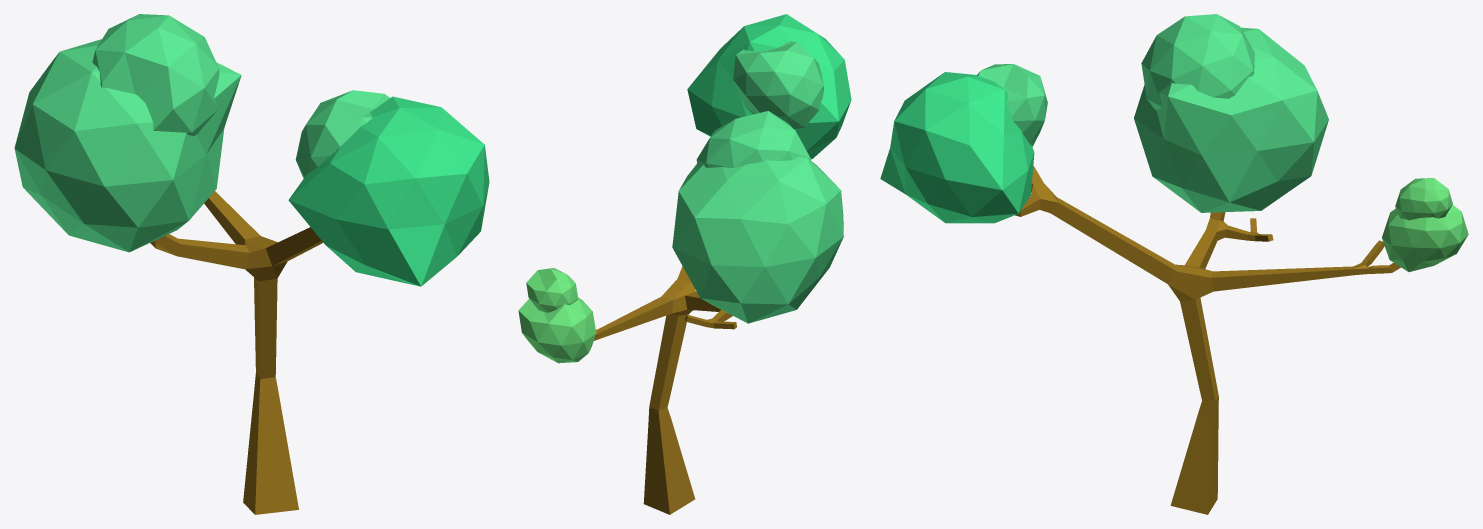
File: TREE.fbx
3 views of the same model, side by side, from view 1: azimuth 30°, elevation 25°; view 2: azimuth 150°, elevation 25°; view 3: azimuth 270°, elevation 25° (orthographic). The views are drawn at different scales.
Visible parts, largest first — view 1: Icosphere.002, Icosphere.001, Cube, Icosphere.003, Icosphere.005; view 2: Icosphere.002, Icosphere.001, Cube, Icosphere.005, Icosphere.003, Icosphere, Icosphere.004; view 3: Icosphere.002, Icosphere.001, Cube, Icosphere.003, Icosphere, Icosphere.005, Icosphere.004.
Boxes of the visible parts, left/top/right/bottom form: Icosphere.002: left=14, top=39, right=241, bottom=252; Icosphere.001: left=288, top=96, right=489, bottom=286; Cube: left=150, top=191, right=323, bottom=514; Icosphere.003: left=92, top=14, right=219, bottom=135; Icosphere.005: left=295, top=90, right=389, bottom=178; Icosphere.002: left=672, top=156, right=843, bottom=323; Icosphere.001: left=687, top=14, right=851, bottom=159; Cube: left=594, top=266, right=736, bottom=514; Icosphere.005: left=733, top=41, right=823, bottom=129; Icosphere.003: left=696, top=111, right=810, bottom=167; Icosphere: left=518, top=297, right=596, bottom=363; Icosphere.004: left=526, top=268, right=578, bottom=312; Icosphere.002: left=1134, top=27, right=1328, bottom=212; Icosphere.001: left=880, top=72, right=1034, bottom=223; Cube: left=1015, top=165, right=1400, bottom=514; Icosphere.003: left=1141, top=14, right=1254, bottom=110; Icosphere: left=1382, top=205, right=1468, bottom=271; Icosphere.005: left=977, top=64, right=1047, bottom=146; Icosphere.004: left=1395, top=178, right=1452, bottom=220.
Bounding box in the file's own units: 349 × 551 × 668.
